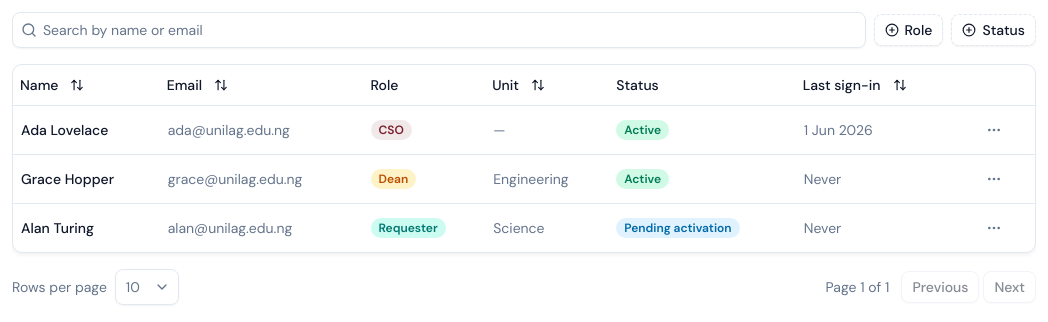
Test: UsersDataTable › filters by status via the Status dropdown
Click the button "Status". click: (994, 30)
box: [951,14,1036,46]
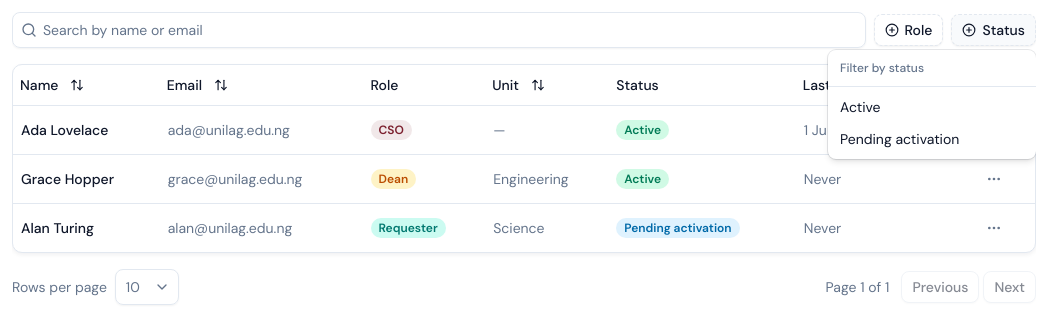
Click the menu item "Pending activation". click: (900, 139)
box: [840,130,959,148]
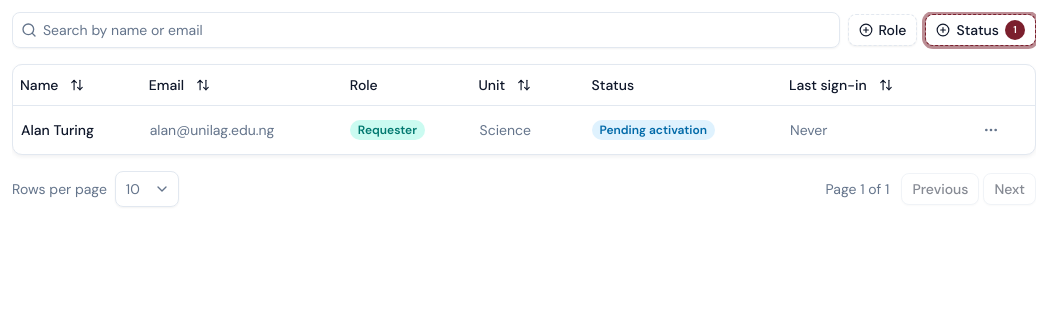
Expected: the text "Alan Turing" is shown, [21,120,94,138]
Expected: the text "Ada Lovelace" is gone
Expected: the text "Grace Hopper" is gone
